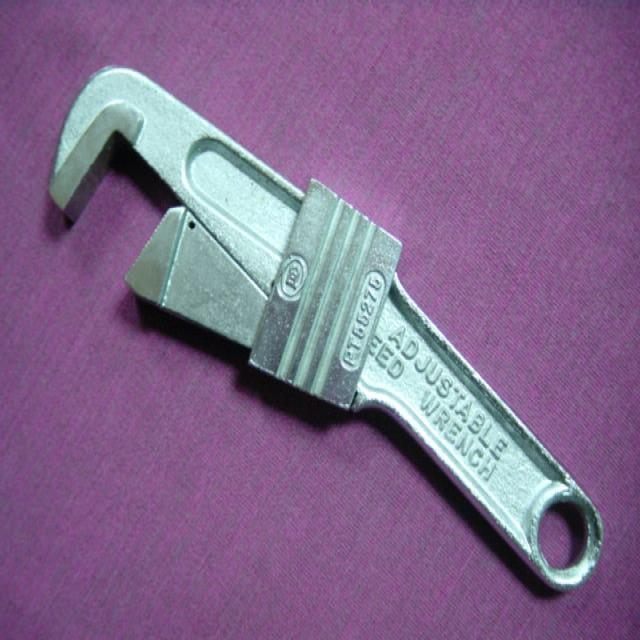wrench: (41, 57, 610, 598)
